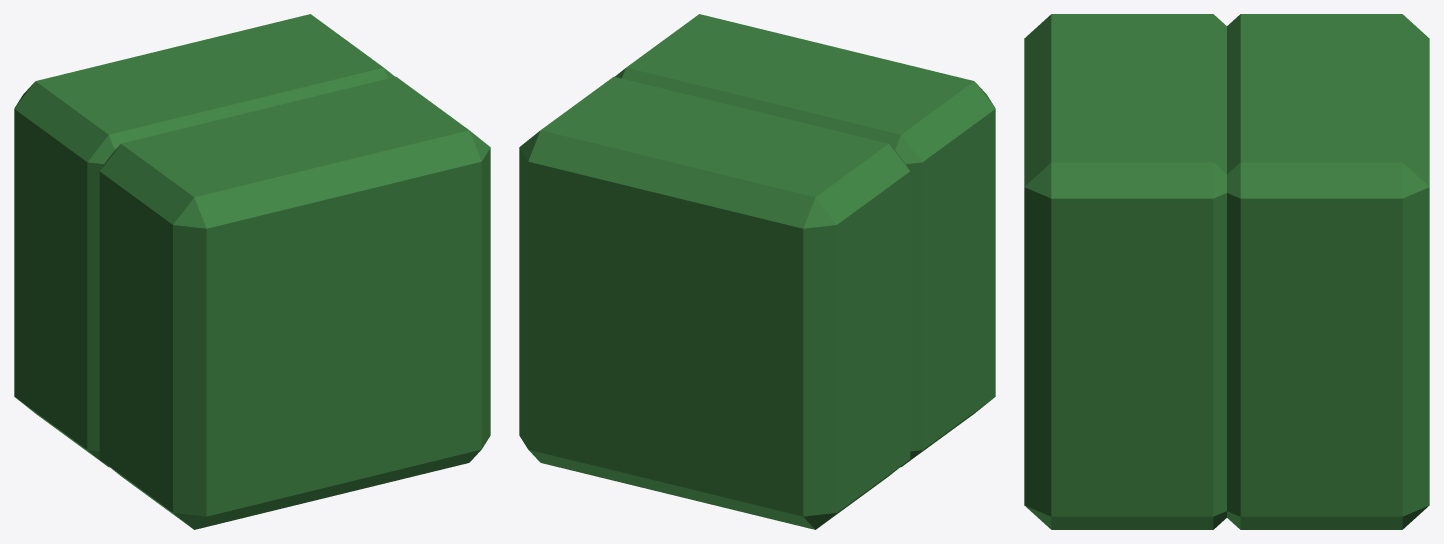
The model's file is m_kub_dung_compo_layerVertic.fbx.
3 renders of one model, left to right at view 1: azimuth 30°, elevation 25°; view 2: azimuth 150°, elevation 25°; view 3: azimuth 270°, elevation 25°, orthographic. The views are drawn at different scales.
Parts seen in each view (by area): view 1: m_kub_dung_compo_layerVertic; view 2: m_kub_dung_compo_layerVertic; view 3: m_kub_dung_compo_layerVertic.
Boxes of the visible parts, x1,y1,x2,y2 form: m_kub_dung_compo_layerVertic: (14,14,490,529); m_kub_dung_compo_layerVertic: (519,14,995,529); m_kub_dung_compo_layerVertic: (1024,14,1429,529).
Size of the model in its own units: 2.15 by 2.15 by 2.15.
